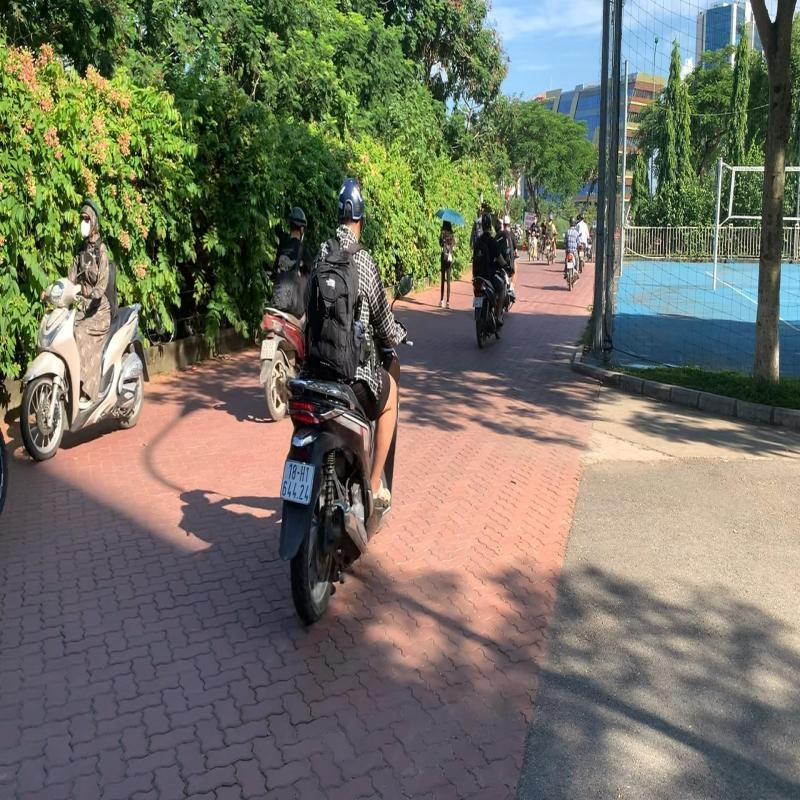helmet: (336, 174, 364, 228)
licenseplate: (280, 460, 316, 507)
motorcyclist: (274, 171, 418, 633)
